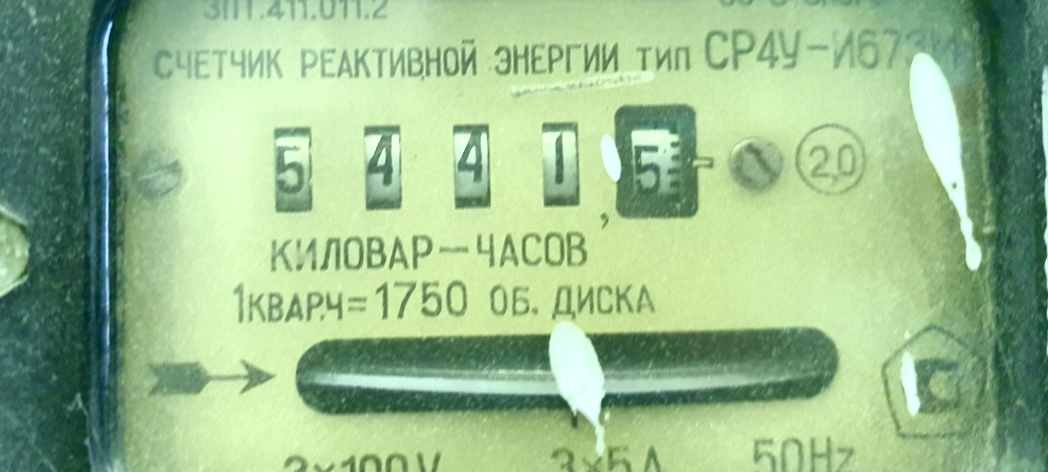1: (546, 130, 571, 188)
4: (451, 124, 489, 191), (363, 128, 399, 190)
5: (270, 140, 310, 198), (629, 138, 665, 201)
screen: (248, 74, 724, 248)
